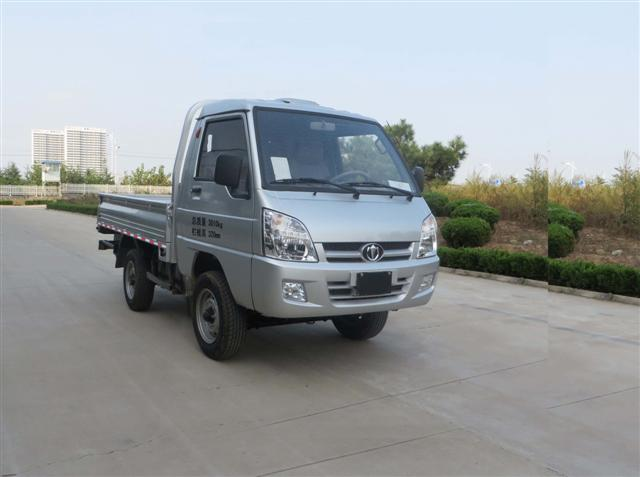smalltruck: (89, 67, 442, 370)
